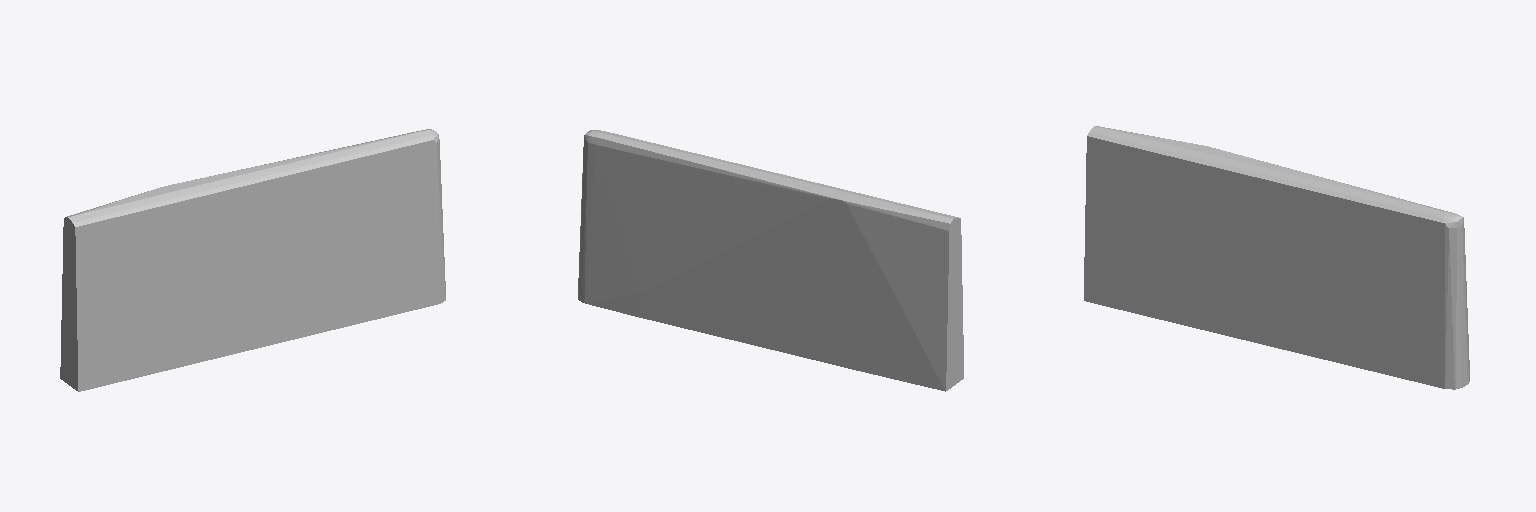
The model's file is ShipScene_collision_27.obj.
3 views of the same model, side by side, from view 1: azimuth 30°, elevation 25°; view 2: azimuth 150°, elevation 25°; view 3: azimuth 330°, elevation 25° (orthographic).
Size of the model in its own units: 229 by 97.95 by 20.02.